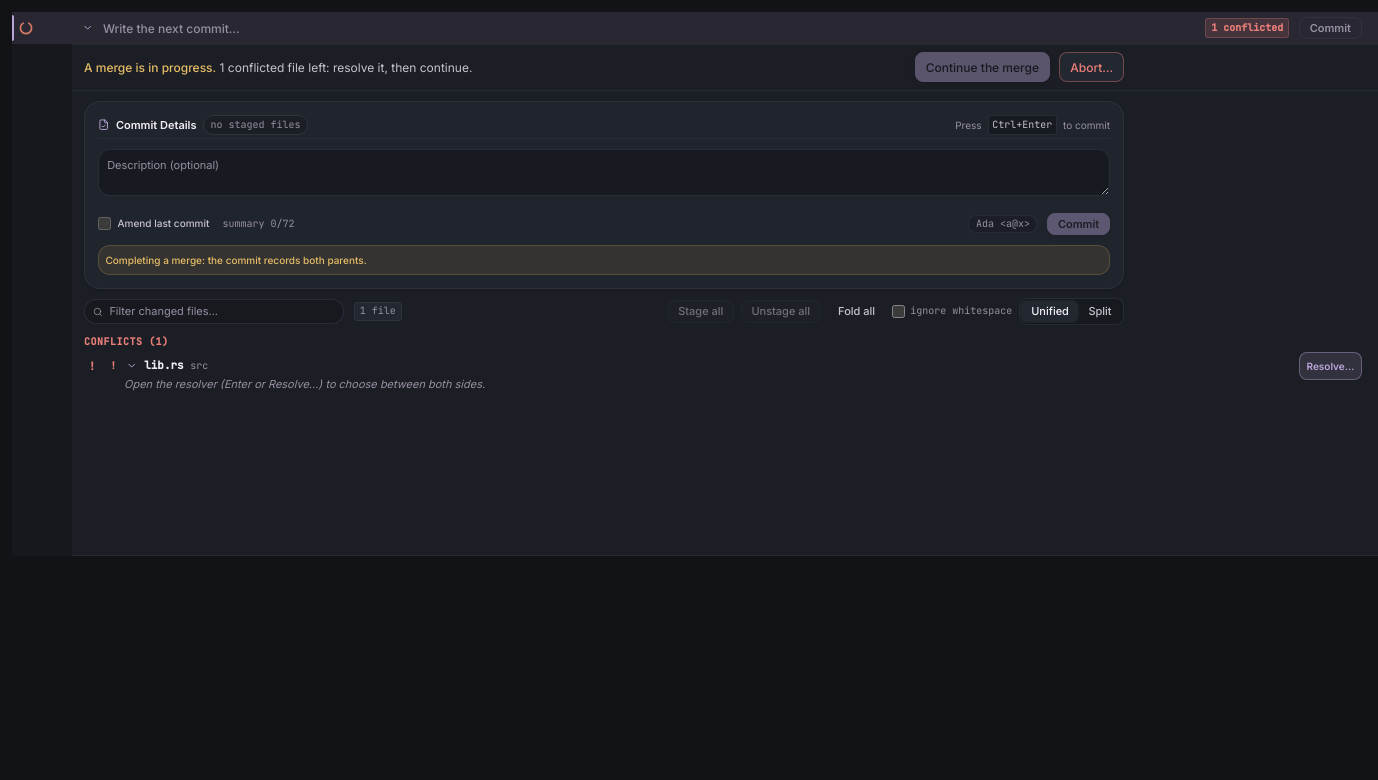
Test: conflict resolution › assembles the chosen side and verifies Git's answer before closing
Click the button "Resolve…" at x=1330, y=366, box [1299, 352, 1362, 380]
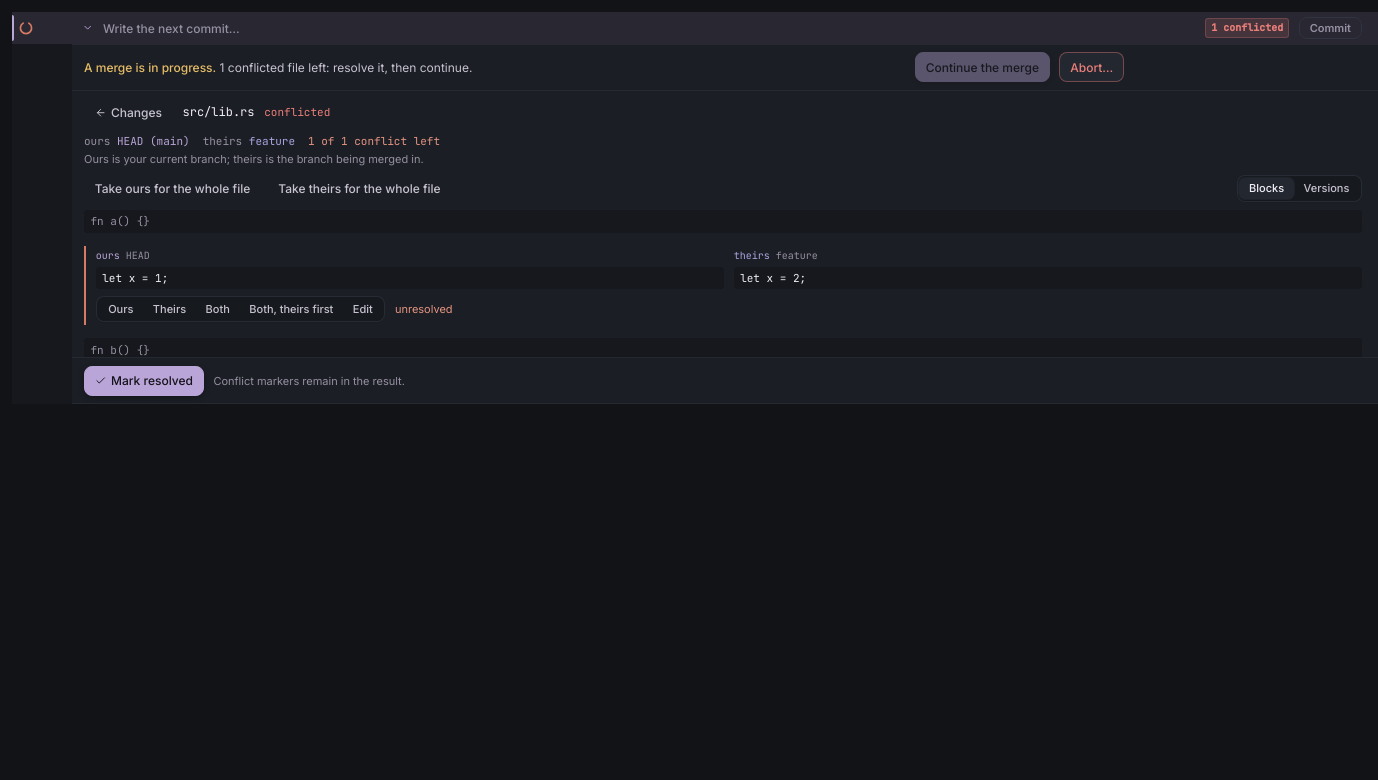
Expected: the text "HEAD (main)" is shown, [117, 134, 190, 148]
Click the radio button labelled "Theirs" at x=169, y=309, box [143, 298, 196, 320]
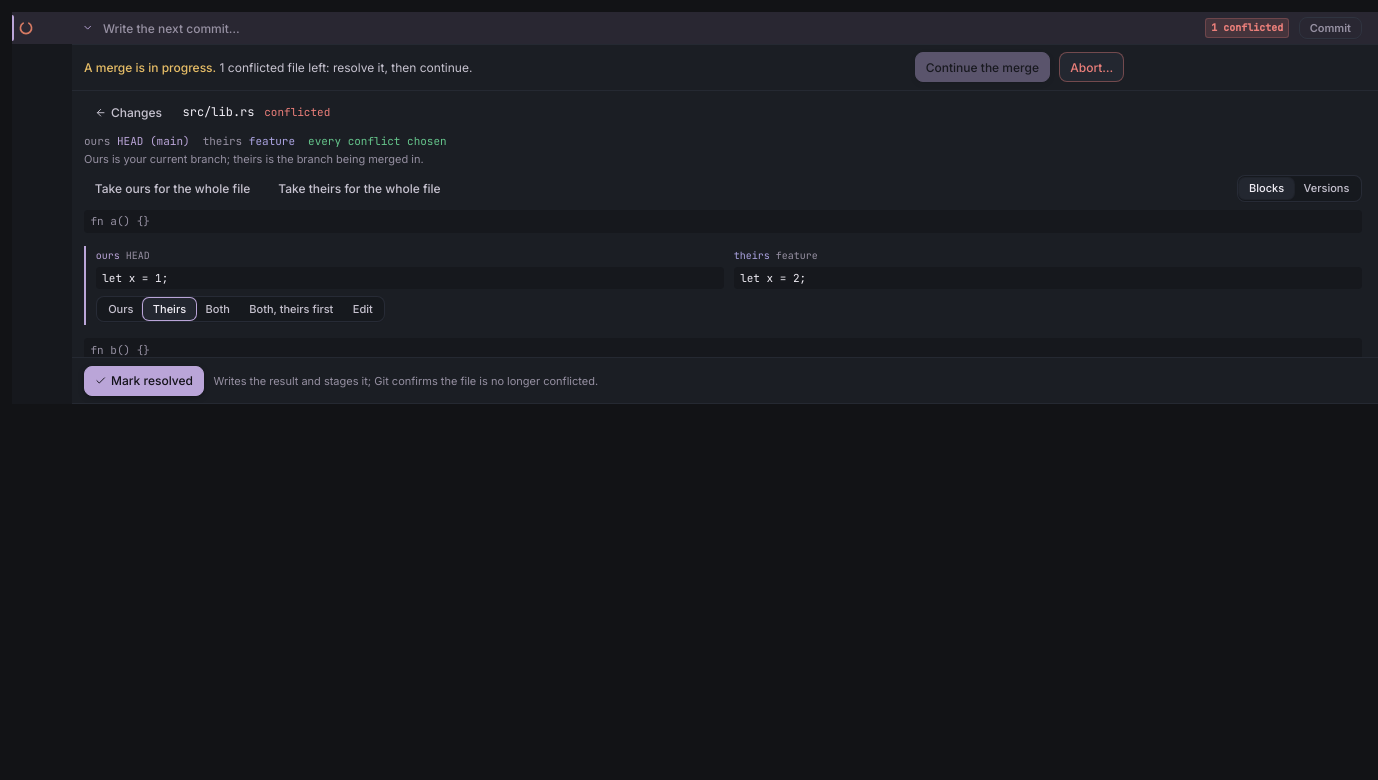
Click the button "Mark resolved" at x=144, y=381, box [84, 366, 204, 396]
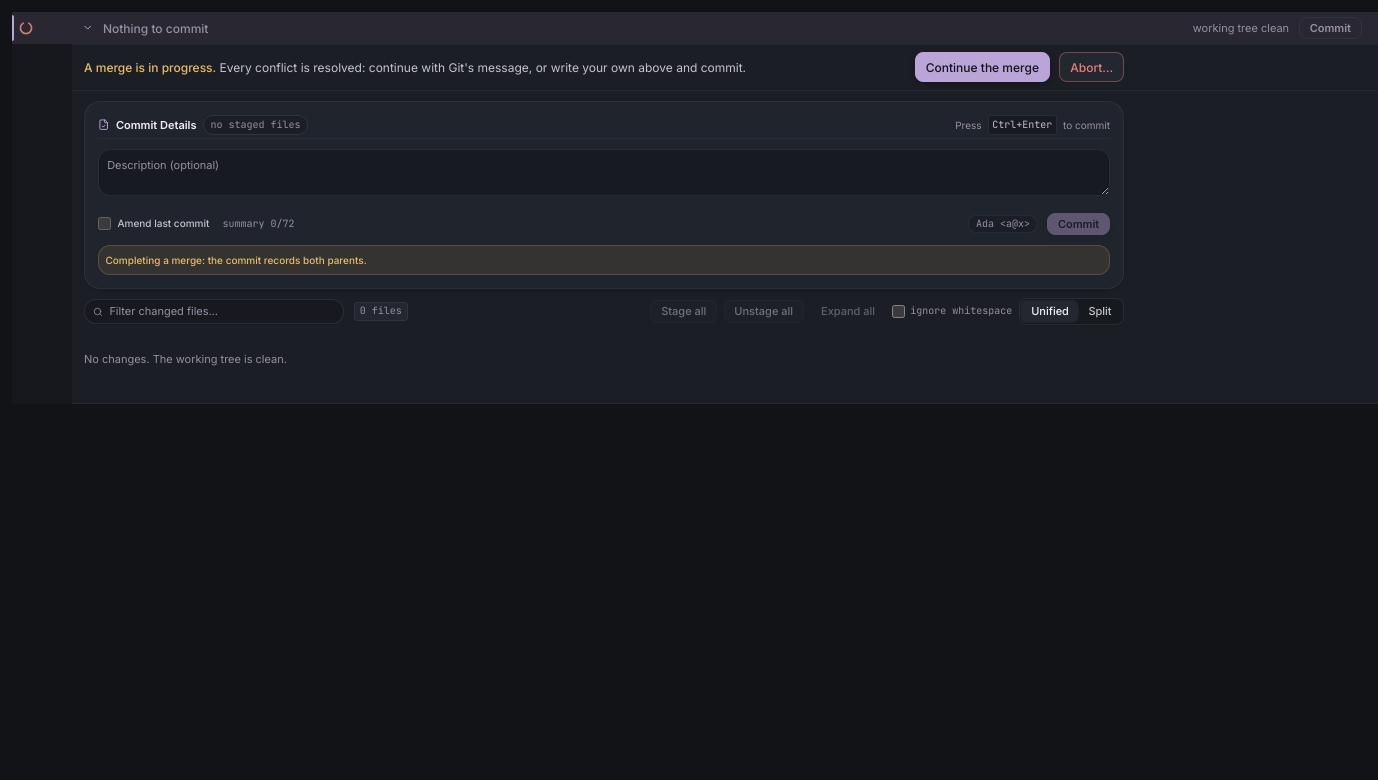
Expected: the button "Continue the merge" is enabled, [915, 52, 1050, 82]
